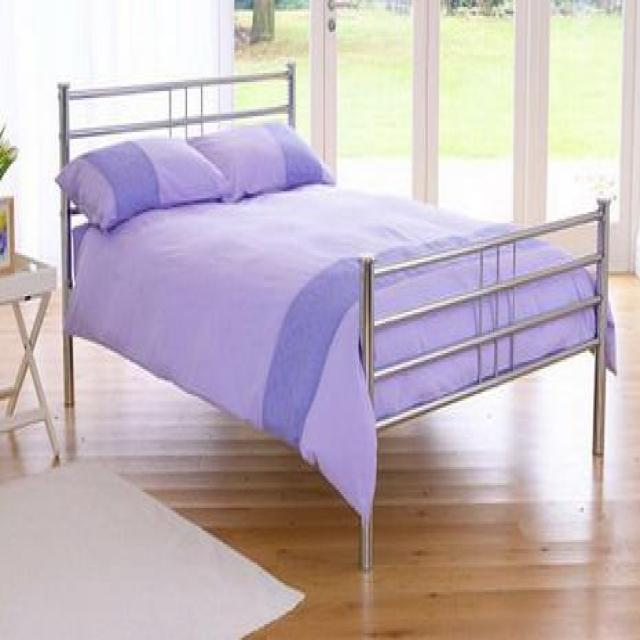bed: (54, 57, 616, 569)
table: (0, 248, 59, 465)
